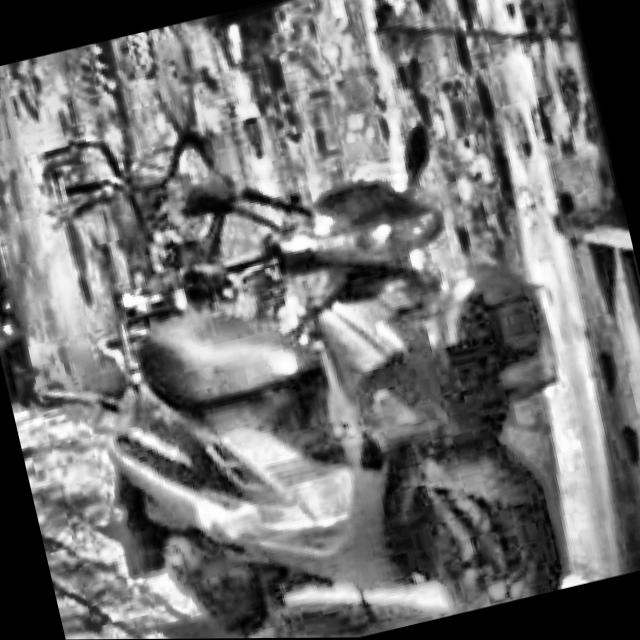motorcycle: (3, 83, 617, 640), (21, 81, 346, 400)
